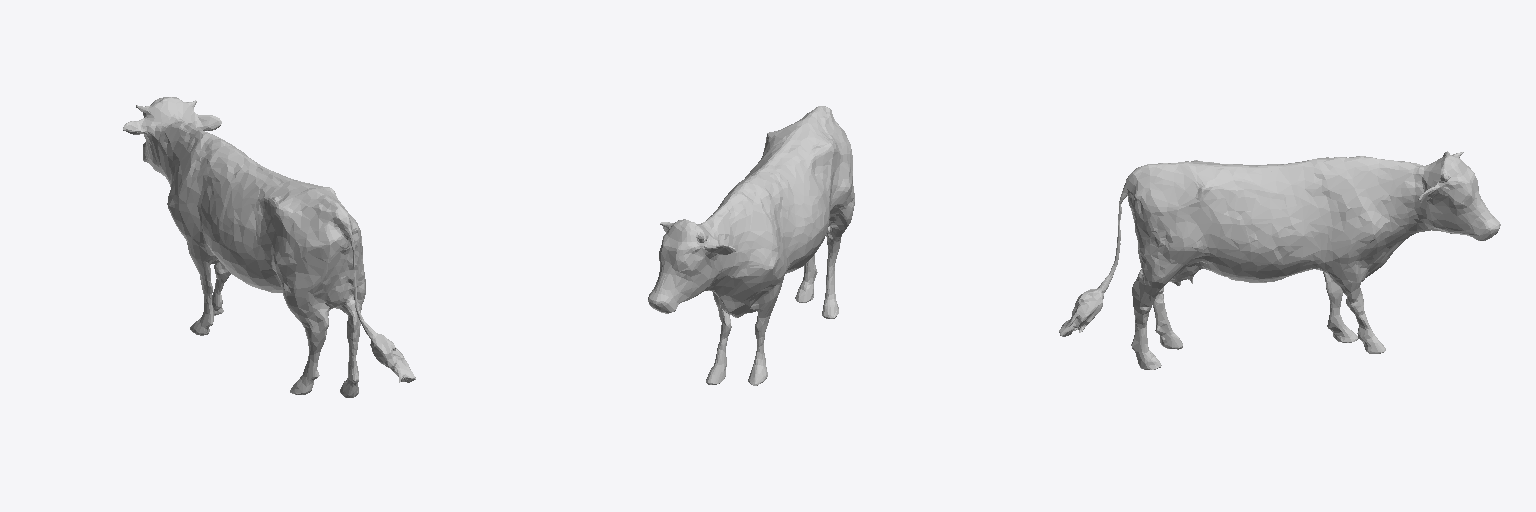
File: cowJune(2).obj
3 views of the same model, side by side, from view 1: azimuth 30°, elevation 25°; view 2: azimuth 150°, elevation 25°; view 3: azimuth 270°, elevation 25° (orthographic).
Parts seen in each view (by area): view 1: 2; view 2: 2; view 3: 2.
Boxes of the visible parts, box(x1,y1,x2,y2) form: 2: box(123, 97, 415, 397); 2: box(648, 106, 854, 385); 2: box(1059, 151, 1500, 369).
Bounding box in the file's own units: 4.77 × 8.88 × 18.03.